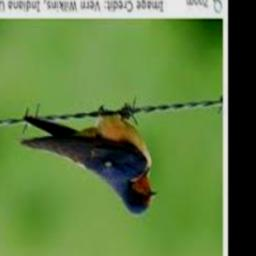Swallow: (20, 113, 157, 216)
